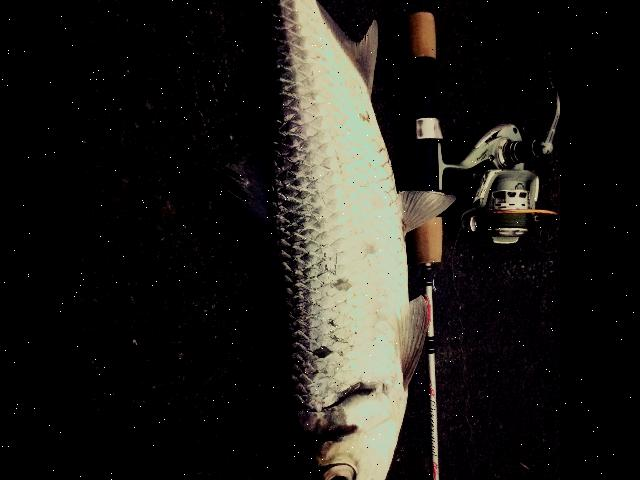Sirip Anal: (336, 8, 399, 112)
Sirip Dada: (381, 290, 439, 392)
Sirip Perut: (389, 184, 458, 248)
Sirip Punggung: (171, 118, 287, 253)
